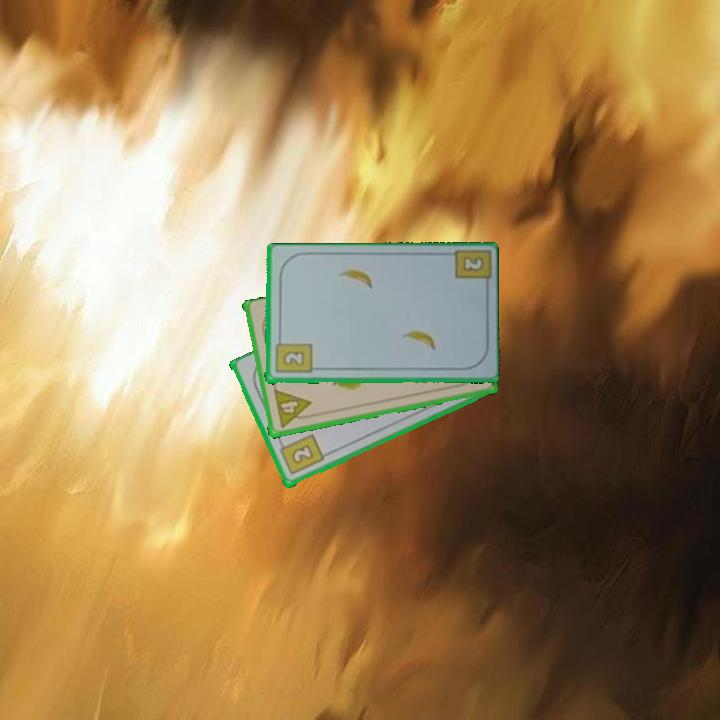2b: (275, 431, 326, 478), (272, 334, 314, 376), (459, 253, 487, 274)
4p: (270, 387, 315, 431)
